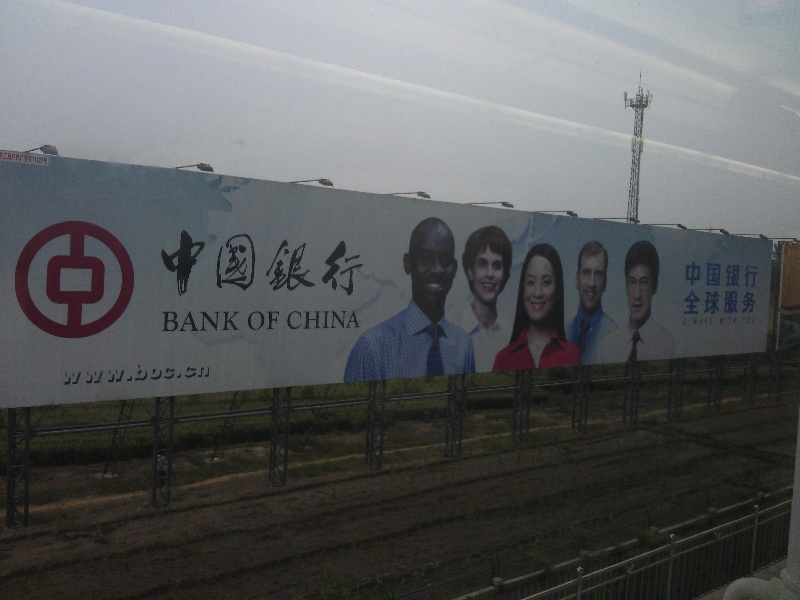text: (161, 227, 176, 298), (177, 227, 192, 298), (193, 227, 208, 298), (209, 227, 224, 298), (225, 227, 240, 298), (241, 227, 256, 298), (257, 227, 272, 298), (273, 227, 288, 298), (289, 227, 304, 298), (305, 227, 320, 298), (321, 227, 336, 298), (337, 227, 352, 298), (353, 227, 366, 298), (689, 260, 704, 289), (705, 260, 720, 289), (721, 260, 736, 289), (737, 260, 752, 289), (65, 360, 80, 387), (81, 360, 96, 387), (97, 360, 112, 387), (113, 360, 128, 387), (129, 360, 144, 387), (145, 360, 160, 387), (161, 360, 176, 387), (177, 360, 192, 387), (193, 360, 208, 387), (689, 289, 704, 315), (705, 289, 720, 315), (721, 289, 736, 315), (737, 289, 752, 315), (177, 310, 192, 334), (193, 310, 208, 334), (209, 310, 224, 334), (225, 310, 240, 334), (162, 310, 176, 334), (257, 310, 272, 332), (289, 310, 304, 330), (305, 310, 320, 330), (321, 310, 336, 330), (337, 310, 352, 330), (17, 152, 32, 166), (33, 152, 48, 166), (753, 260, 760, 289), (353, 310, 363, 330), (273, 310, 282, 332), (248, 310, 256, 332), (4, 152, 16, 166), (721, 317, 737, 326), (689, 317, 704, 326), (753, 289, 758, 315), (61, 360, 64, 387), (209, 360, 212, 387), (705, 317, 714, 326), (685, 289, 688, 315), (743, 317, 752, 324), (682, 317, 688, 326), (687, 260, 688, 289), (241, 310, 242, 334), (753, 317, 756, 324), (287, 310, 288, 330)
